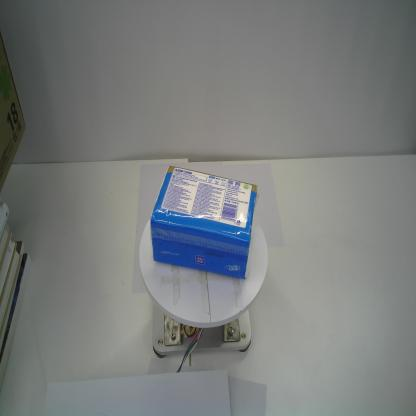Tissue: (149, 163, 260, 280)
